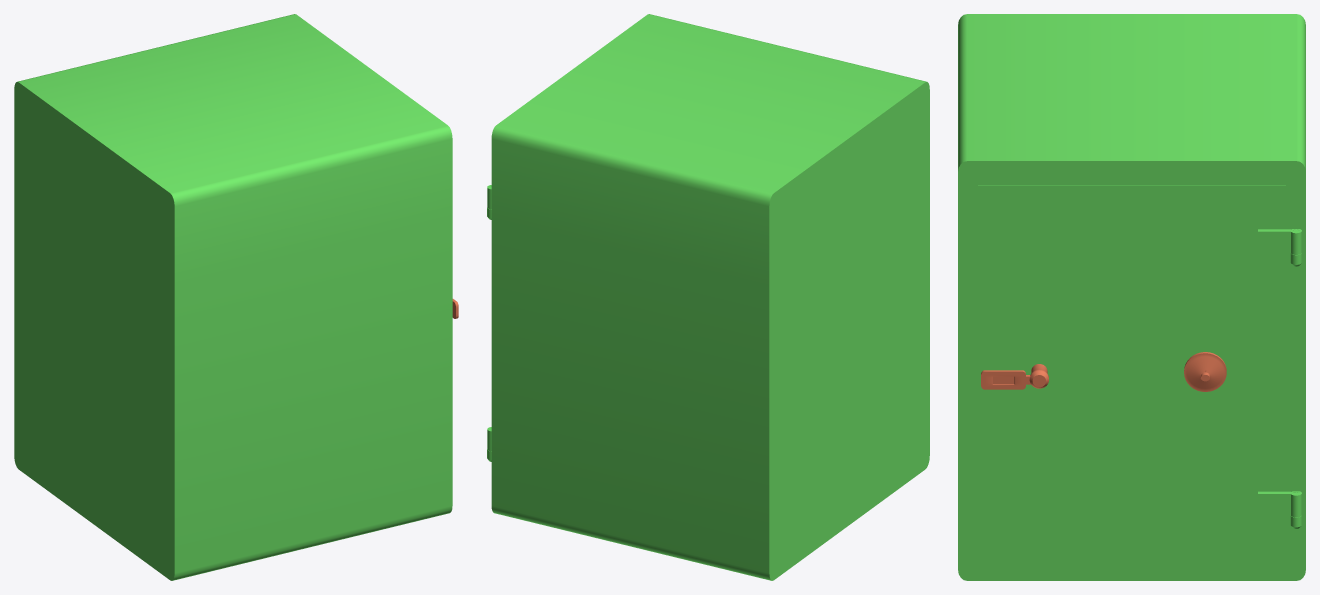
Rendered from safe.fbx.
The picture shows the model from 3 angles, left to right: view 1: azimuth 30°, elevation 25°; view 2: azimuth 150°, elevation 25°; view 3: azimuth 270°, elevation 25°; orthographic projection. The views are drawn at different scales.
Parts seen in each view (by area): view 1: base_001; view 2: base_001; view 3: base_002, base_001.
Boxes of the visible parts, box(x1,y1,x2,y2) form: base_001: box(14, 14, 452, 580); base_001: box(491, 14, 929, 580); base_002: box(978, 185, 1301, 557); base_001: box(958, 14, 1305, 580).
Bounding box in the file's own units: 214 × 266 × 200.
